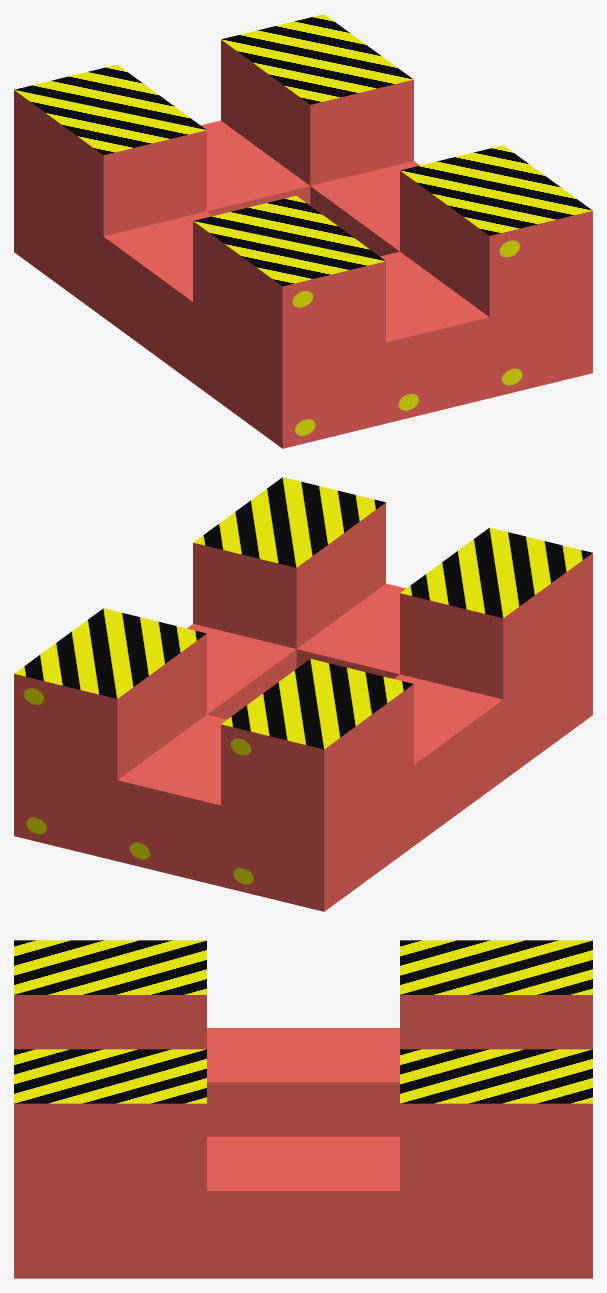
The model's file is Bridge.obj.
The picture shows the model from 3 angles, top to bottom: view 1: azimuth 30°, elevation 25°; view 2: azimuth 150°, elevation 25°; view 3: azimuth 270°, elevation 25°; orthographic projection. The views are drawn at different scales.
Parts seen in each view (by area): view 1: Bridge; view 2: Bridge; view 3: Bridge.
Part boxes in pixels (box(x1,y1,x2,y2)): Bridge: box(14, 14, 592, 448); Bridge: box(14, 477, 592, 911); Bridge: box(14, 940, 592, 1278).
Size of the model in its own units: 8 by 4 by 12.
